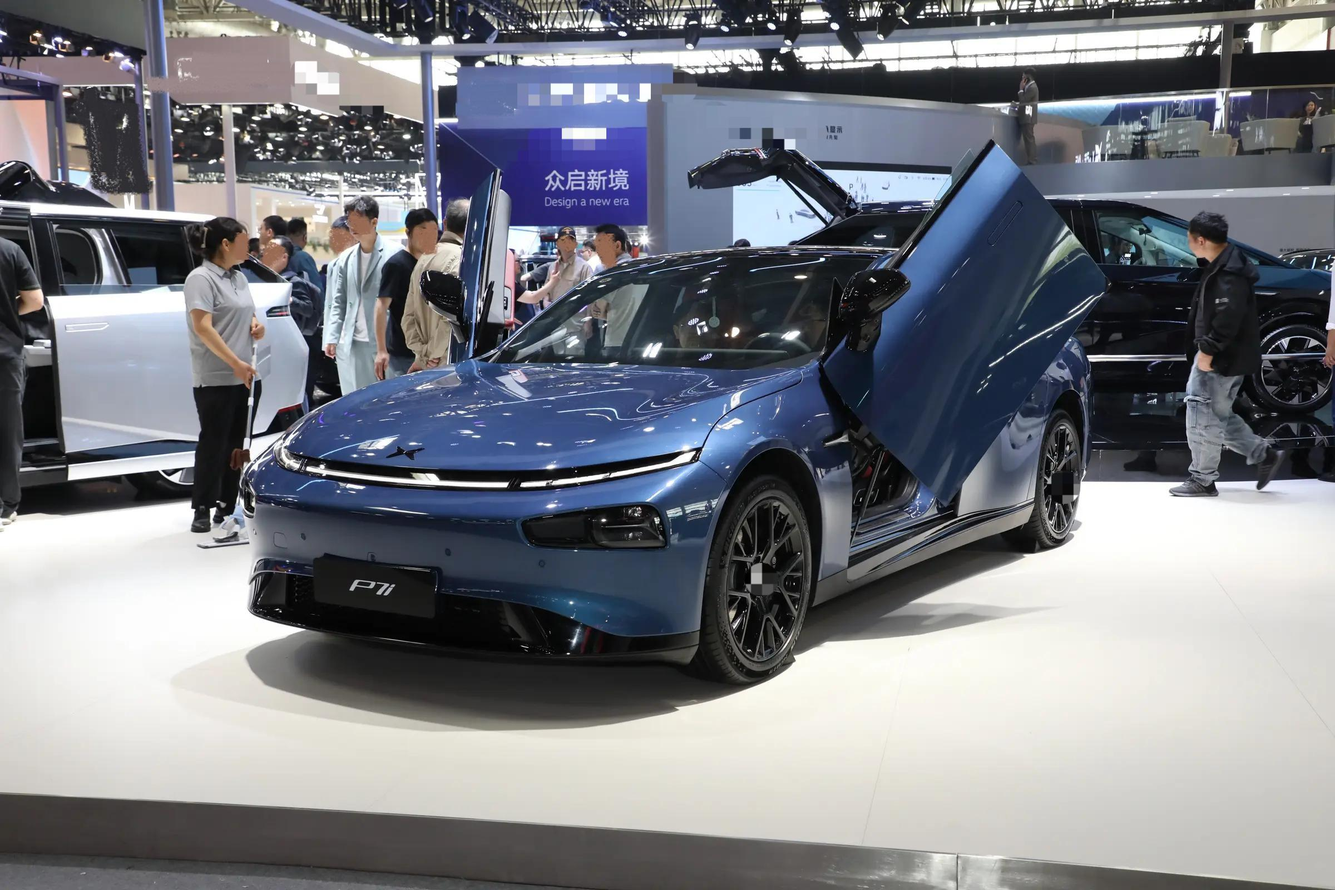XPeng Motors: (386, 445, 425, 460)
